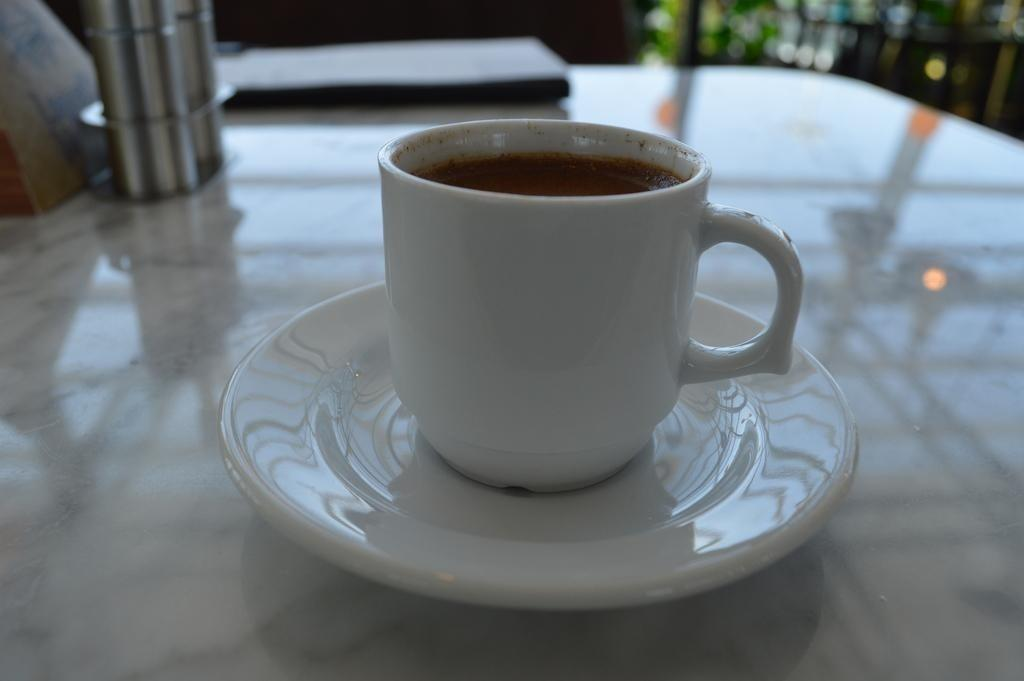cup-handle: (379, 118, 801, 497)
